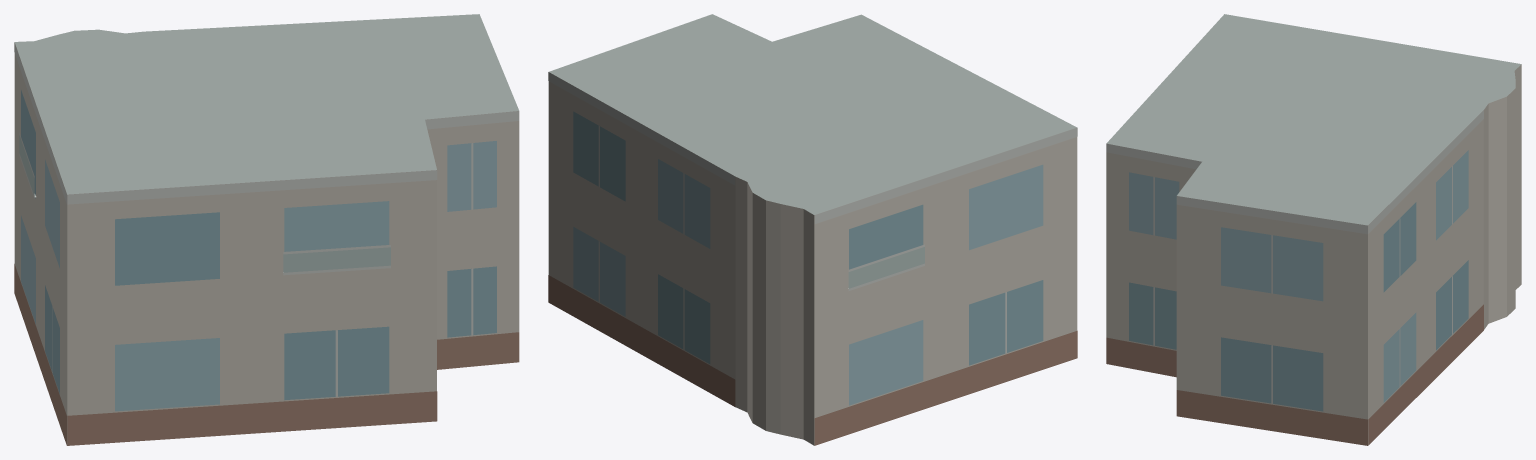
Rendered from survey-upis-32646643.glb.
3 views of the same model, side by side, from view 1: azimuth 30°, elevation 25°; view 2: azimuth 150°, elevation 25°; view 3: azimuth 270°, elevation 25° (orthographic). The views are drawn at different scales.
Parts seen in each view (by area): view 1: survey-upis-32646643.tmp; view 2: survey-upis-32646643.tmp; view 3: survey-upis-32646643.tmp.
Part boxes in pixels (x1,y1,x2,y2): survey-upis-32646643.tmp: (14, 14, 519, 445); survey-upis-32646643.tmp: (548, 14, 1077, 445); survey-upis-32646643.tmp: (1106, 14, 1521, 445).
Size of the model in its own units: 12.57 by 6.1 by 10.43.
